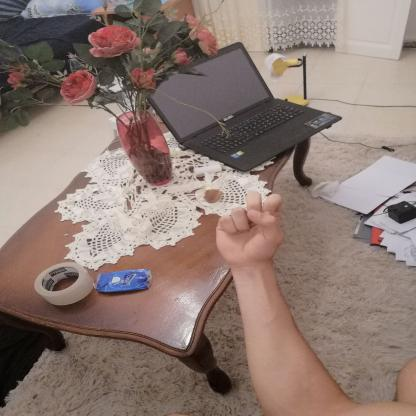QAAF: (201, 182, 310, 275)
